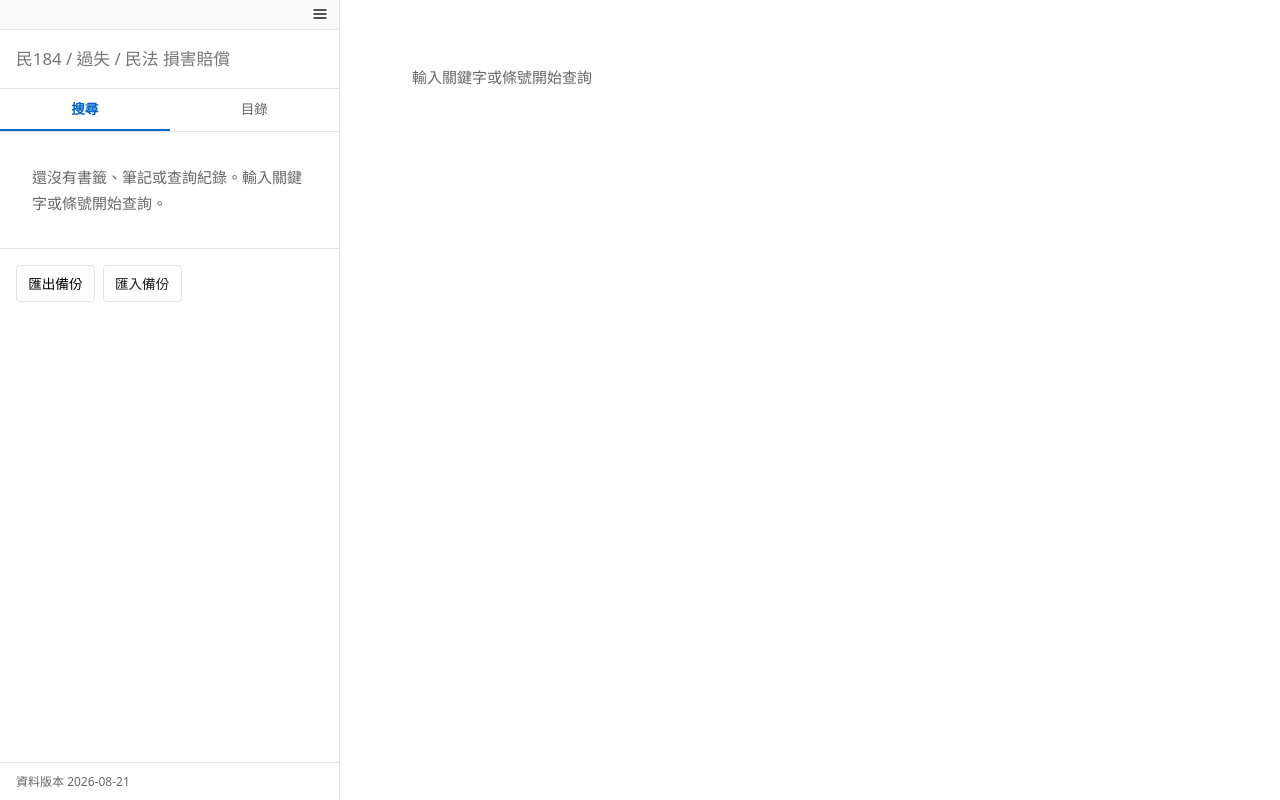
Scenario: C-A:Enter 不替使用者決定脈絡法規 › 使用者自己用方向鍵選過之後,Enter 仍讓該法規成為後續查詢的脈絡
Type "184" into the field named "搜尋法條" at (170, 59), box [0,30,339,89]
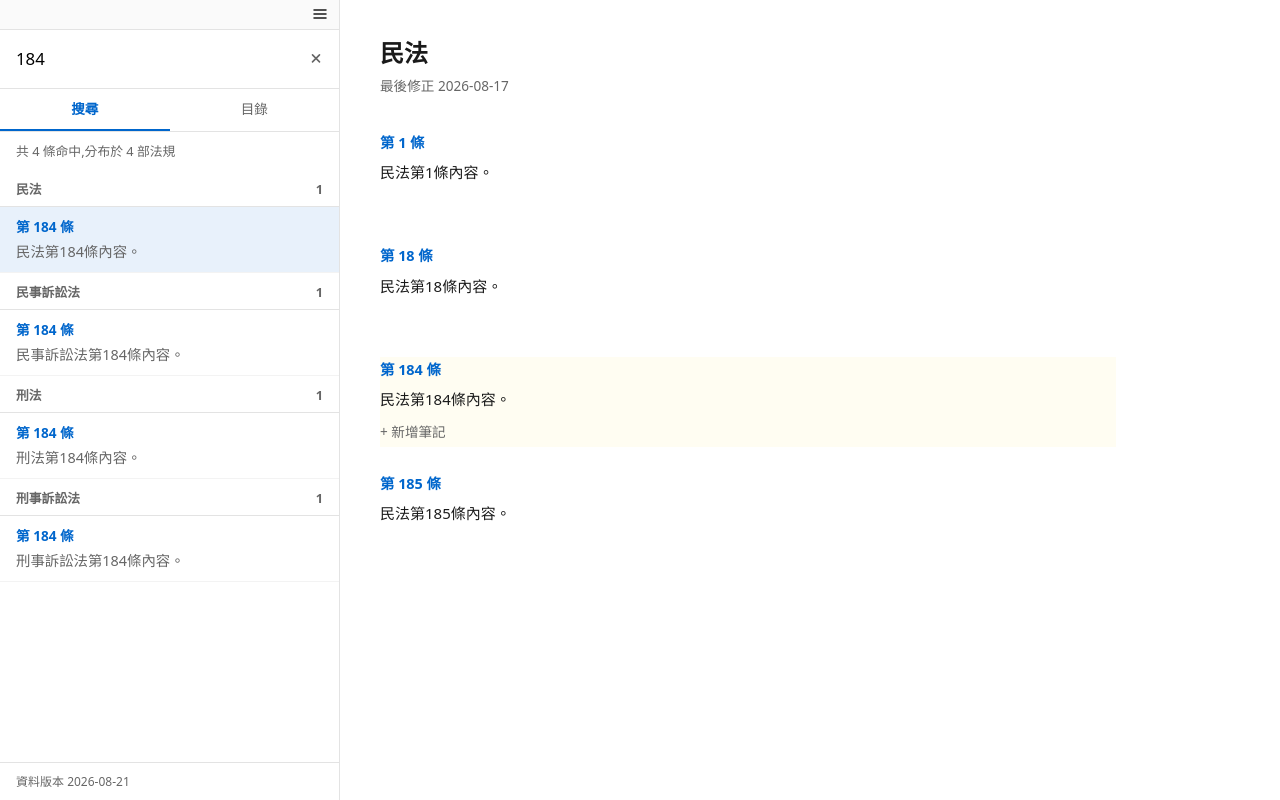
Check: the number of options is 4, box [0,207,339,273]; [0,310,339,376]; [0,413,339,479]; [0,516,339,582]
Press ArrowDown
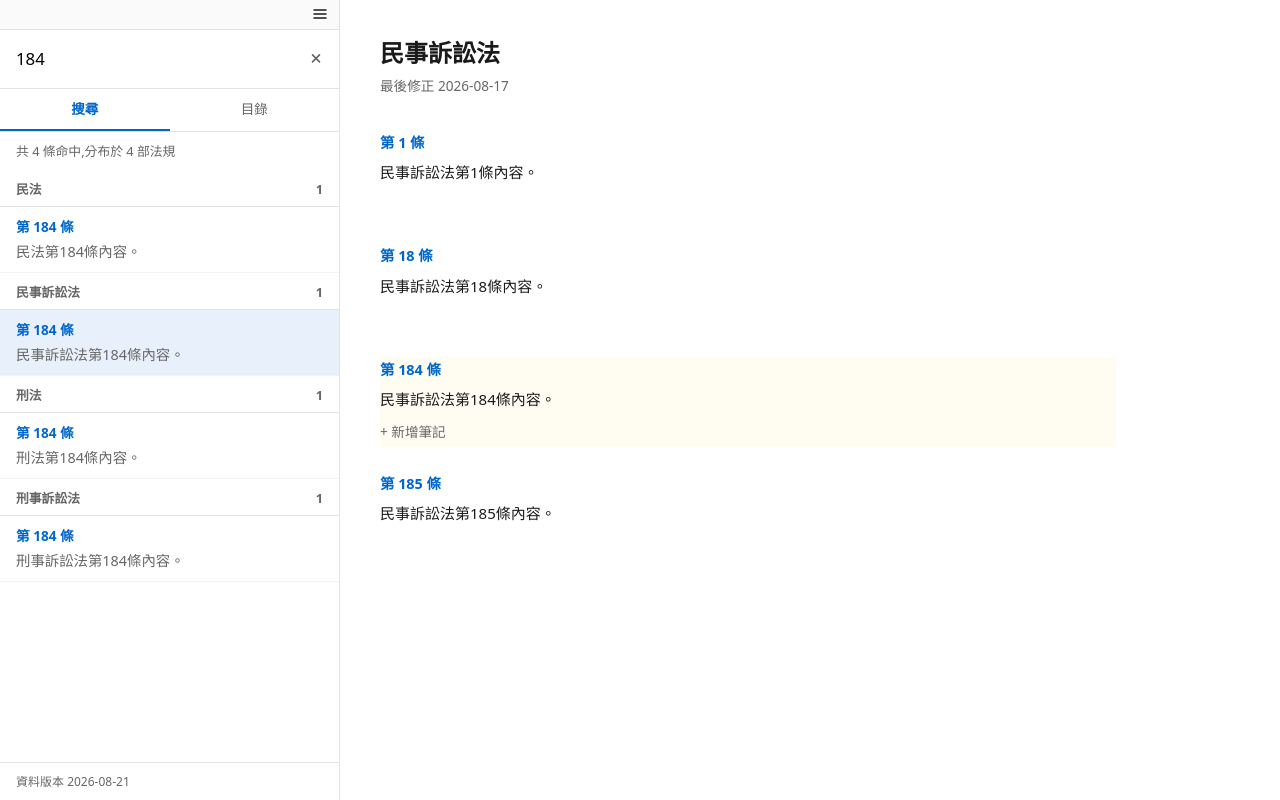
Press Enter
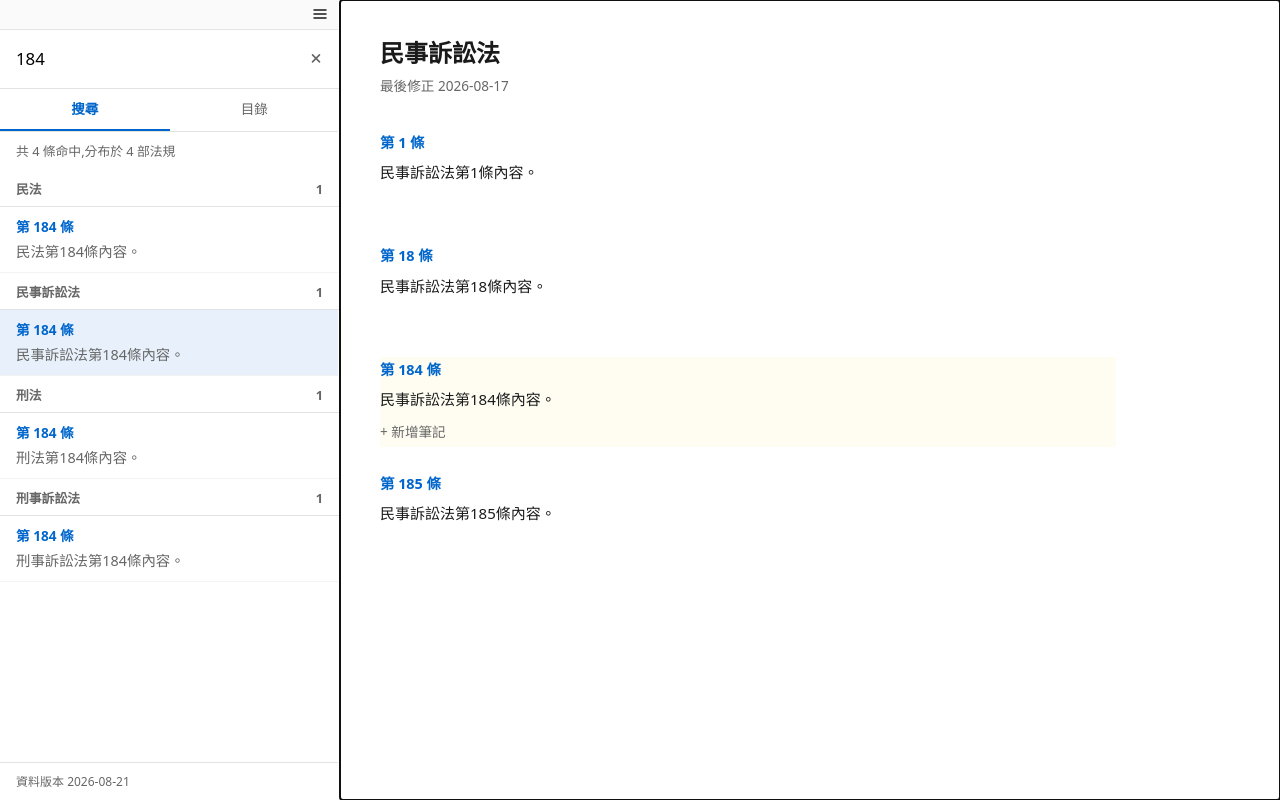
Replace the text in the field named "搜尋法條" with "1" at (170, 59), box [0,30,339,89]
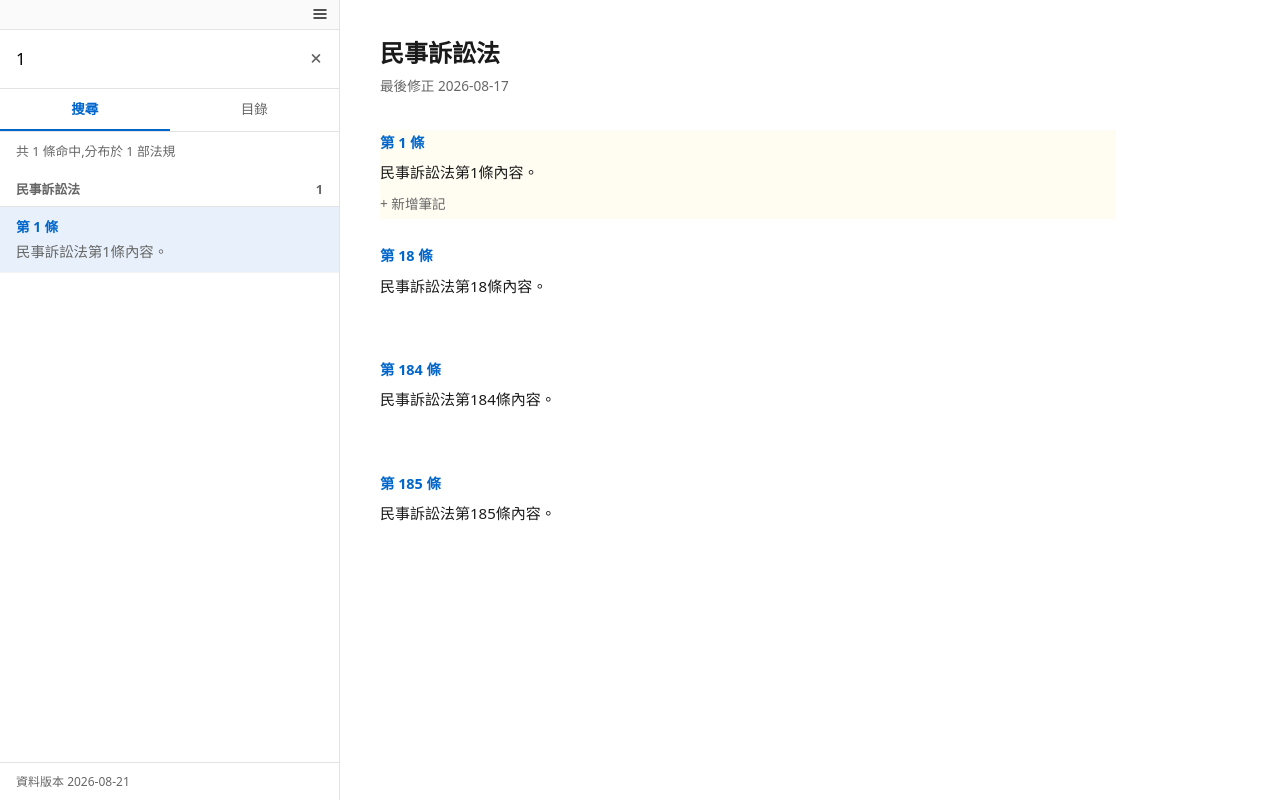
Check: the number of options is 1, box [0,207,339,273]
